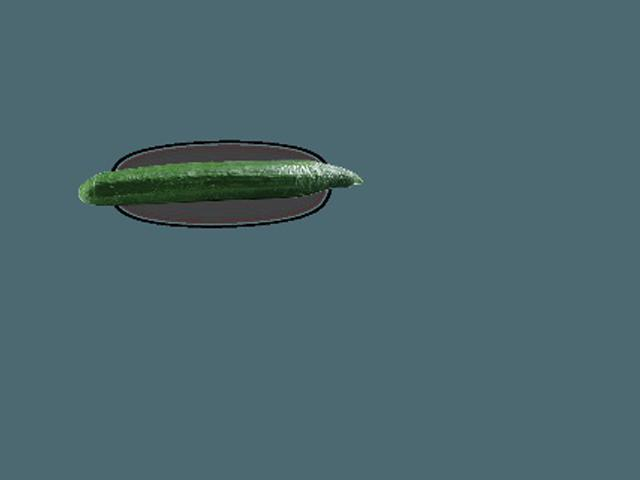cucumber: (77, 161, 363, 207)
